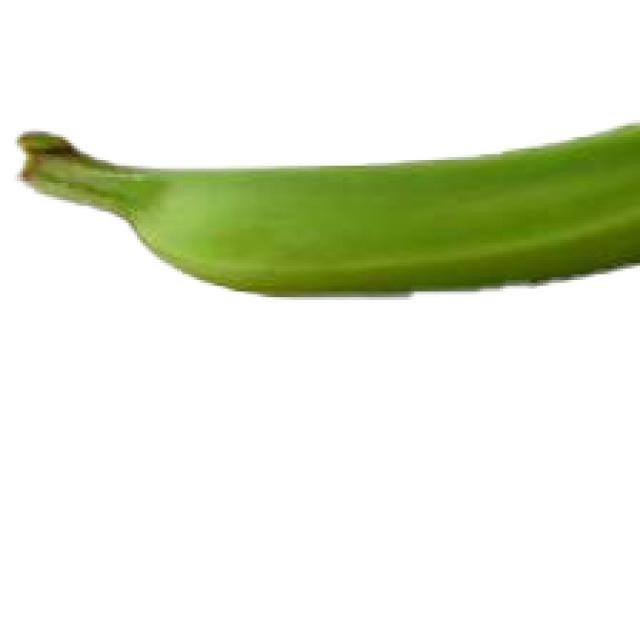fresh-banana: (14, 103, 637, 297)
